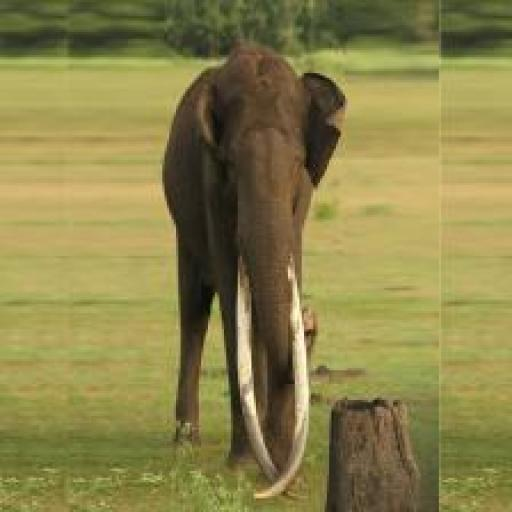Elephant: (158, 44, 347, 506)
